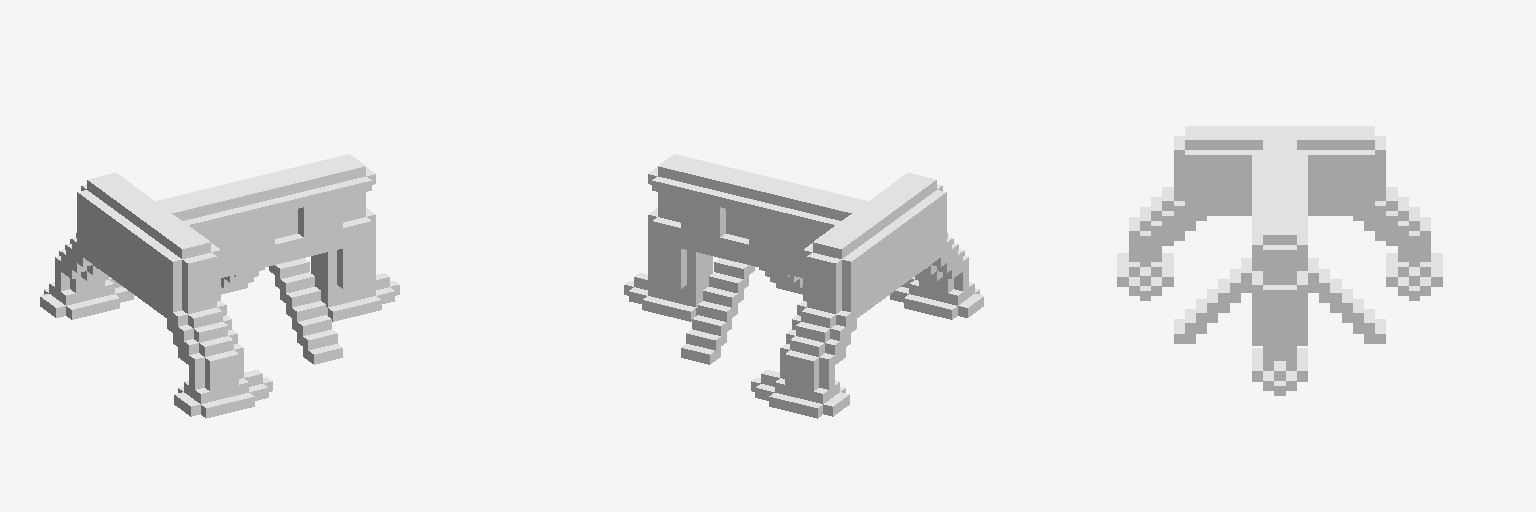
Rendered from Spaceship.obj.
The picture shows the model from 3 angles: view 1: azimuth 30°, elevation 25°; view 2: azimuth 150°, elevation 25°; view 3: azimuth 270°, elevation 25°; orthographic projection.
Visible parts, largest first — view 1: object 1; view 2: object 1; view 3: object 1.
Boxes of the visible parts, x1,y1,x2,y2 form: object 1: [40, 154, 399, 418]; object 1: [624, 154, 983, 418]; object 1: [1117, 126, 1442, 395].
Size of the model in its own units: 2.9 by 1.4 by 2.9.